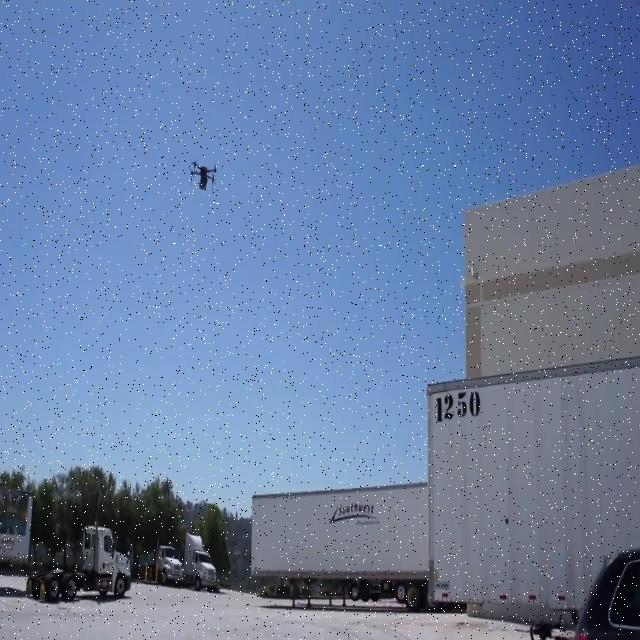UAV: (189, 160, 217, 194)
